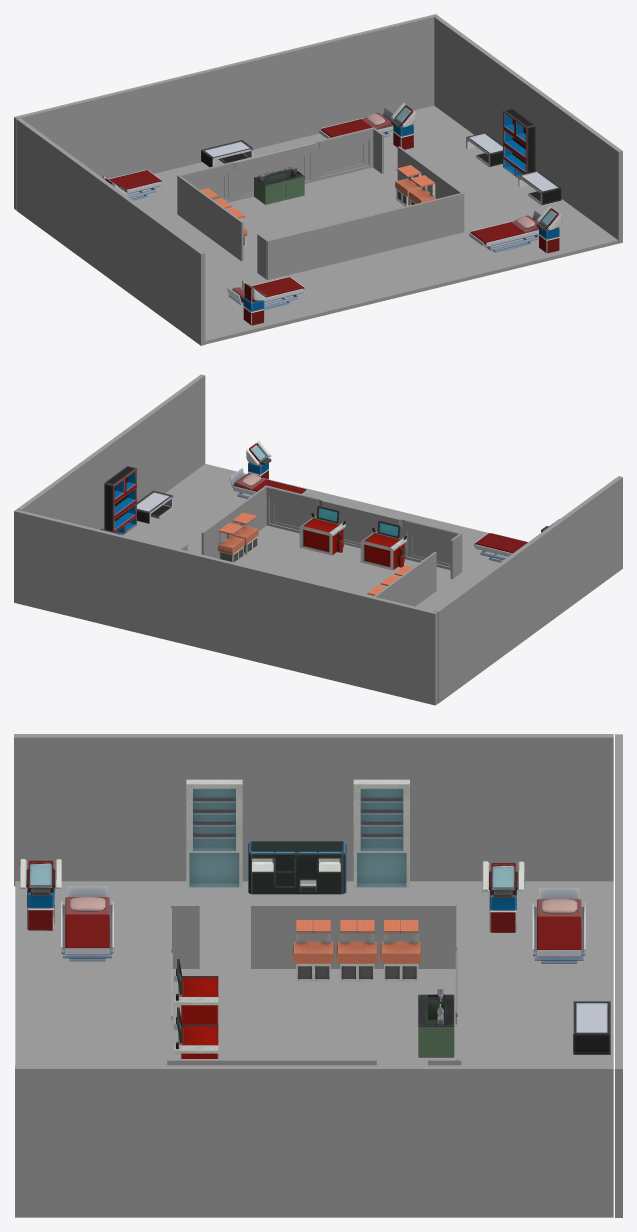
The model's file is Fase2.fbx.
3 renders of one model, top to bottom at view 1: azimuth 30°, elevation 25°; view 2: azimuth 150°, elevation 25°; view 3: azimuth 270°, elevation 25°, orthographic. The views are drawn at different scales.
Visible parts, largest first — view 1: CHAO, PAREDE_TRAS, PAREDE_L, PAREDE_R, PAREDE_FRONTAL_DENTRO, PAREDE_TRAS_DENTRO, PAREDE_L_DENTRO, ARMARIO_VIDRO_3, MACA3, MESA_M, PAREDE_R_DENTRO, MACA4 (+10 smaller); view 2: PAREDE_TRAS, PAREDE_L, CHAO, PAREDE_R, PAREDE_FRONTAL_DENTRO, PAREDE_L_DENTRO, ARMARIO_VIDRO_3, MESA_C1, MESA_C, PAREDE_R_DENTRO, MACA3, MACA4 (+4 smaller); view 3: PAREDE_R, PAREDE_L, CHAO, PAREDE_L_DENTRO, ARMARIO1, ARMARIO, ARMARIO_VIDRO_2, PAREDE_TRAS, MACA, MACA4, HUD1, HUD (+10 smaller).
Part boxes in pixels (<box>): CHAO: <box>126,105,618,344</box>; PAREDE_TRAS: <box>14,14,437,210</box>; PAREDE_L: <box>16,118,205,345</box>; PAREDE_R: <box>434,16,622,243</box>; PAREDE_FRONTAL_DENTRO: <box>266,192,464,280</box>; PAREDE_TRAS_DENTRO: <box>177,127,374,214</box>; PAREDE_L_DENTRO: <box>178,176,267,279</box>; ARMARIO_VIDRO_3: <box>503,108,535,177</box>; MACA3: <box>469,210,540,252</box>; MESA_M: <box>254,166,304,204</box>; PAREDE_R_DENTRO: <box>373,128,462,198</box>; MACA4: <box>226,277,304,310</box>; PAREDE_TRAS: <box>14,509,437,705</box>; PAREDE_L: <box>434,476,622,703</box>; CHAO: <box>123,464,507,610</box>; PAREDE_R: <box>17,374,205,529</box>; PAREDE_FRONTAL_DENTRO: <box>265,485,462,572</box>; PAREDE_L_DENTRO: <box>374,533,461,606</box>; ARMARIO_VIDRO_3: <box>104,466,136,535</box>; MESA_C1: <box>360,520,406,570</box>; MESA_C: <box>299,506,345,555</box>; PAREDE_R_DENTRO: <box>179,486,266,558</box>; MACA3: <box>229,468,307,498</box>; MACA4: <box>474,533,527,562</box>; PAREDE_R: <box>15,1065,613,1217</box>; PAREDE_L: <box>14,734,613,886</box>; CHAO: <box>15,881,613,1065</box>; PAREDE_L_DENTRO: <box>171,904,456,968</box>; ARMARIO1: <box>186,779,242,887</box>; ARMARIO: <box>353,779,409,887</box>; ARMARIO_VIDRO_2: <box>248,841,346,894</box>; PAREDE_TRAS: <box>615,734,622,1217</box>; MACA: <box>532,888,585,963</box>; MACA4: <box>61,886,113,961</box>; HUD1: <box>482,861,524,932</box>; HUD: <box>20,859,61,930</box>.
Size of the model in its own units: 37.05 by 7.69 by 28.49.
12 materials, 9 textured.
